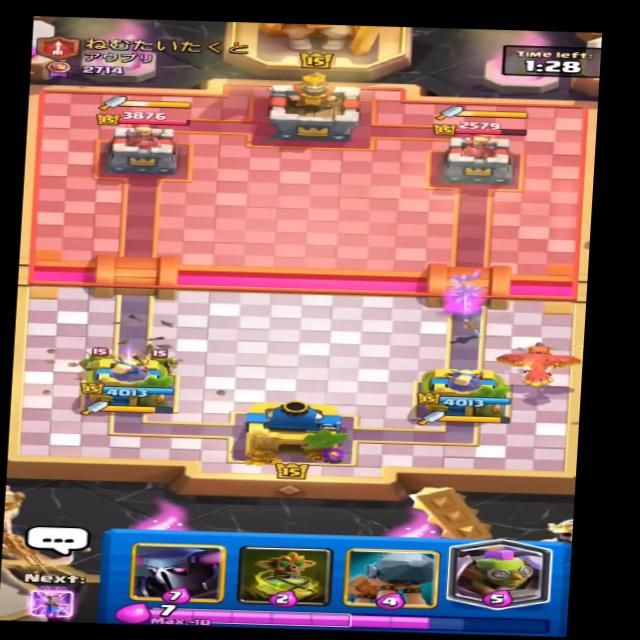goblin: (143, 346, 187, 372), (78, 345, 120, 369)
